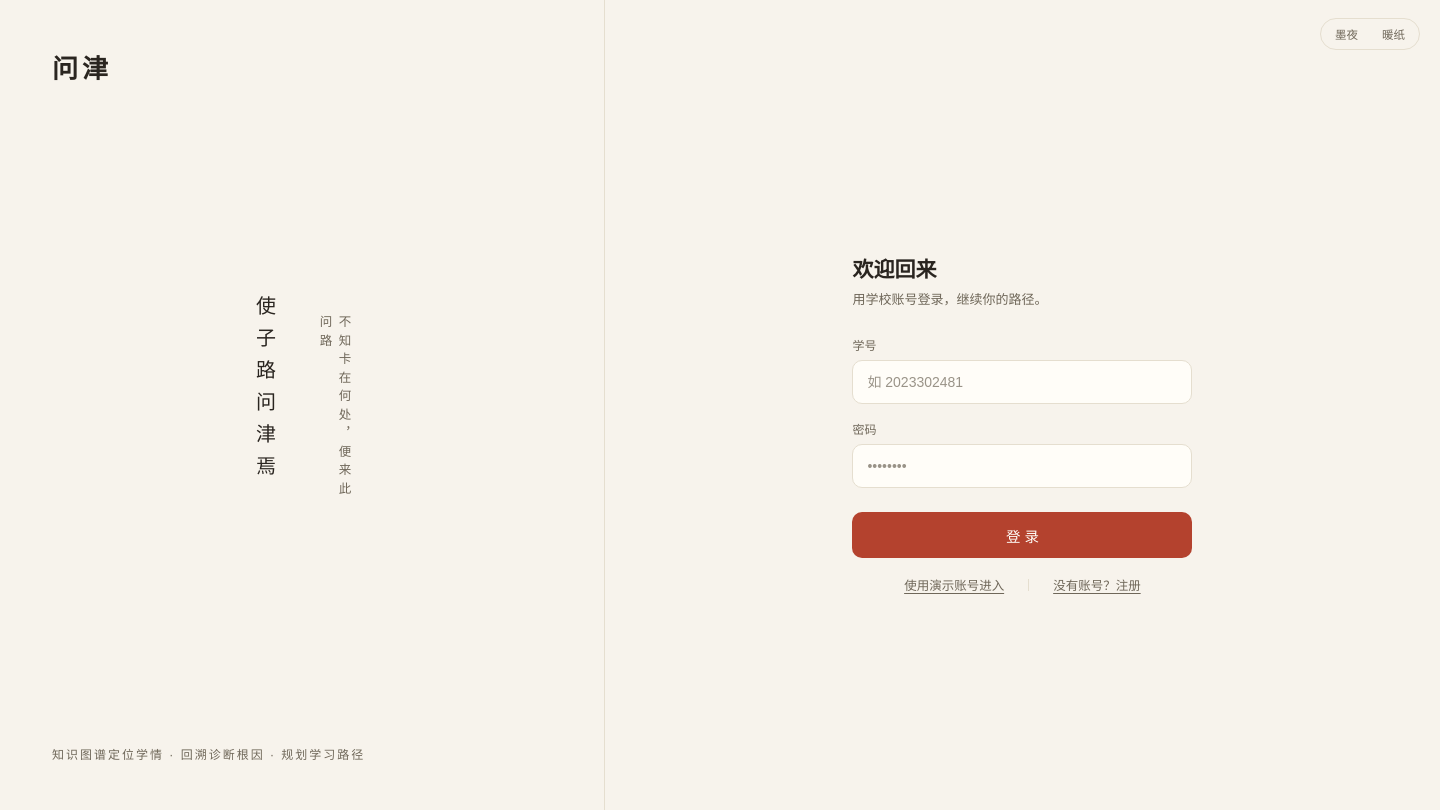
Scenario: Login registration security › register form has no teacher registration option
Click the button "没有账号？注册".
click(1097, 584)  # box [1047, 574, 1147, 595]
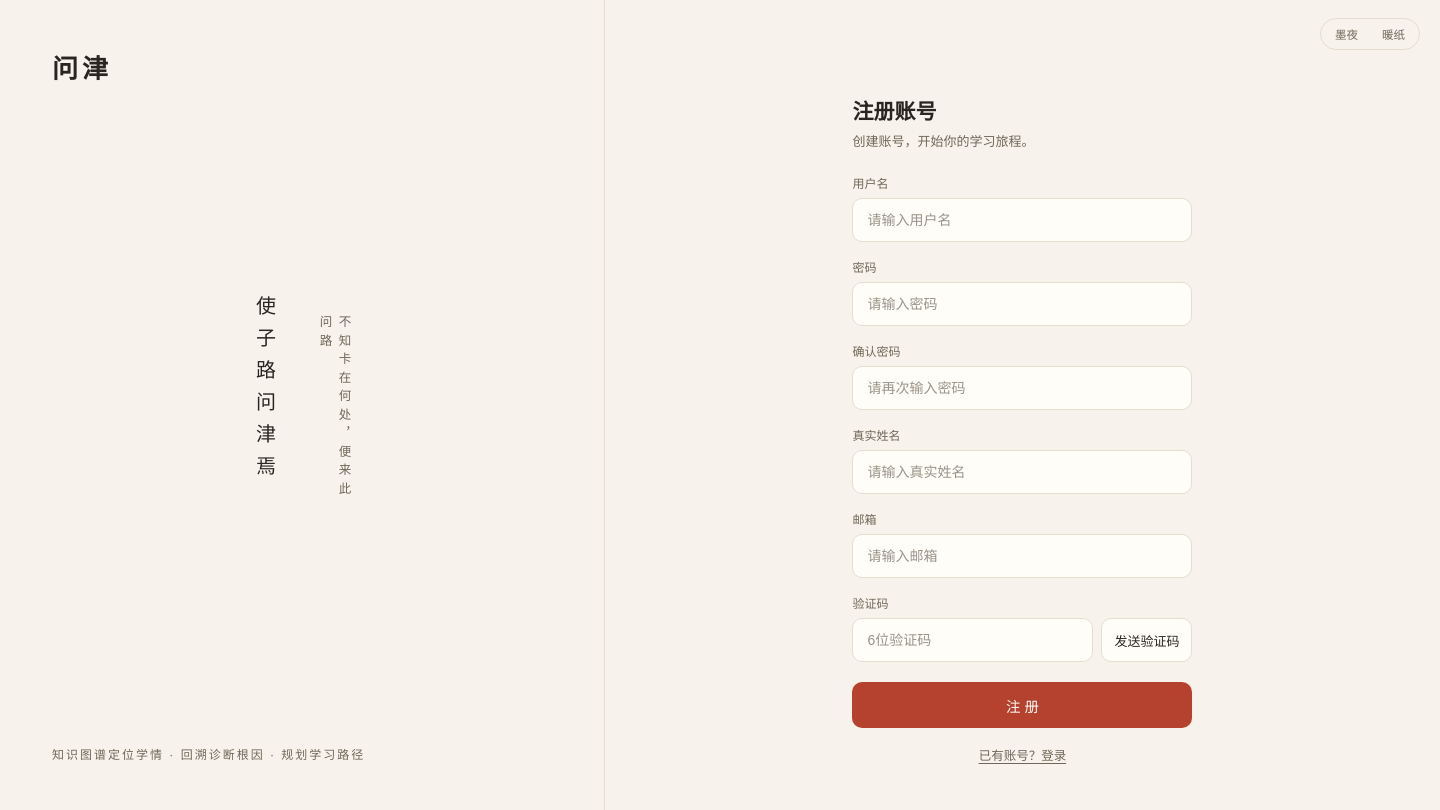
Check: the text "注册账号" is shown, box [852, 100, 936, 124]
